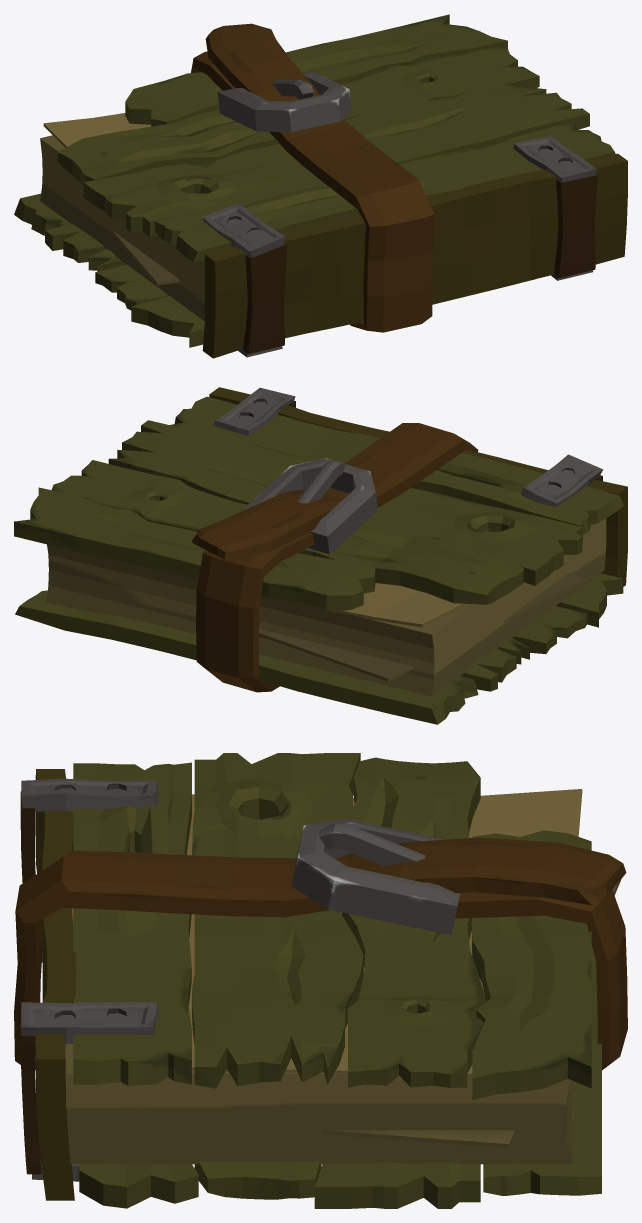
Rendered from Book_2.fbx.
The picture shows the model from 3 angles, top to bottom: view 1: azimuth 30°, elevation 25°; view 2: azimuth 150°, elevation 25°; view 3: azimuth 270°, elevation 25°; orthographic projection. The views are drawn at different scales.
Parts seen in each view (by area): view 1: Book_2; view 2: Book_2; view 3: Book_2.
Boxes of the visible parts, x1=… form: Book_2: x1=14, y1=14, x2=627, y2=358; Book_2: x1=14, y1=387, x2=627, y2=724; Book_2: x1=14, y1=753, x2=627, y2=1208.
Size of the model in its own units: 291 by 101 by 228.
Materials: 1 (1 with a texture image).
